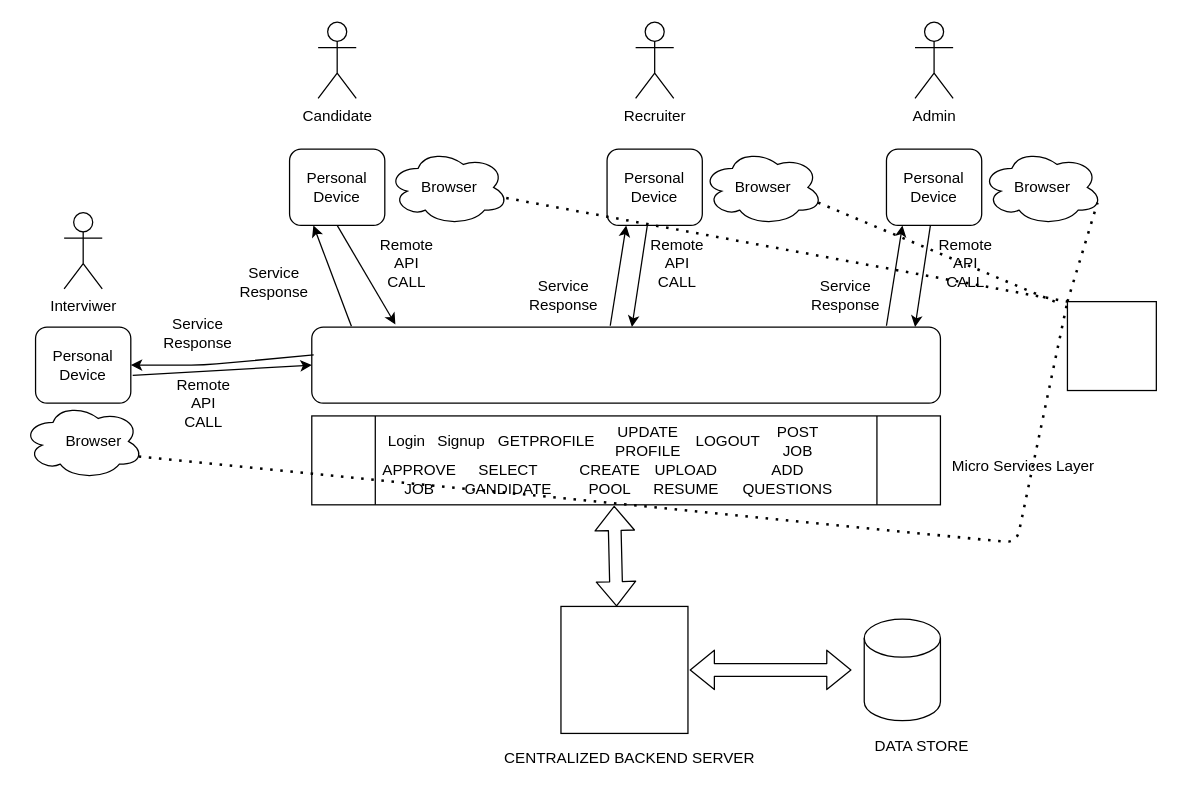
Some shapes in this 1184 by 794 pixel diagram are drawn without their labels. The shapes that lost their labels are listed below. From the top down, each one's centre as x and y in pixels, then its label:
point 625,364: API GATEWAY / CENTRALIZED SERVER
point 1111,345: DNS Server
